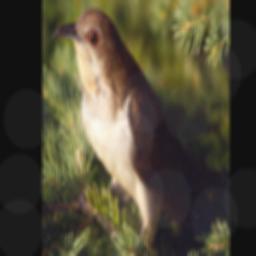Cuckoo: (52, 6, 222, 249)
